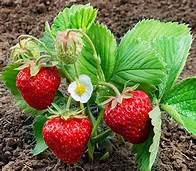Fresa: (99, 84, 153, 148), (40, 108, 93, 167), (15, 58, 62, 114)
